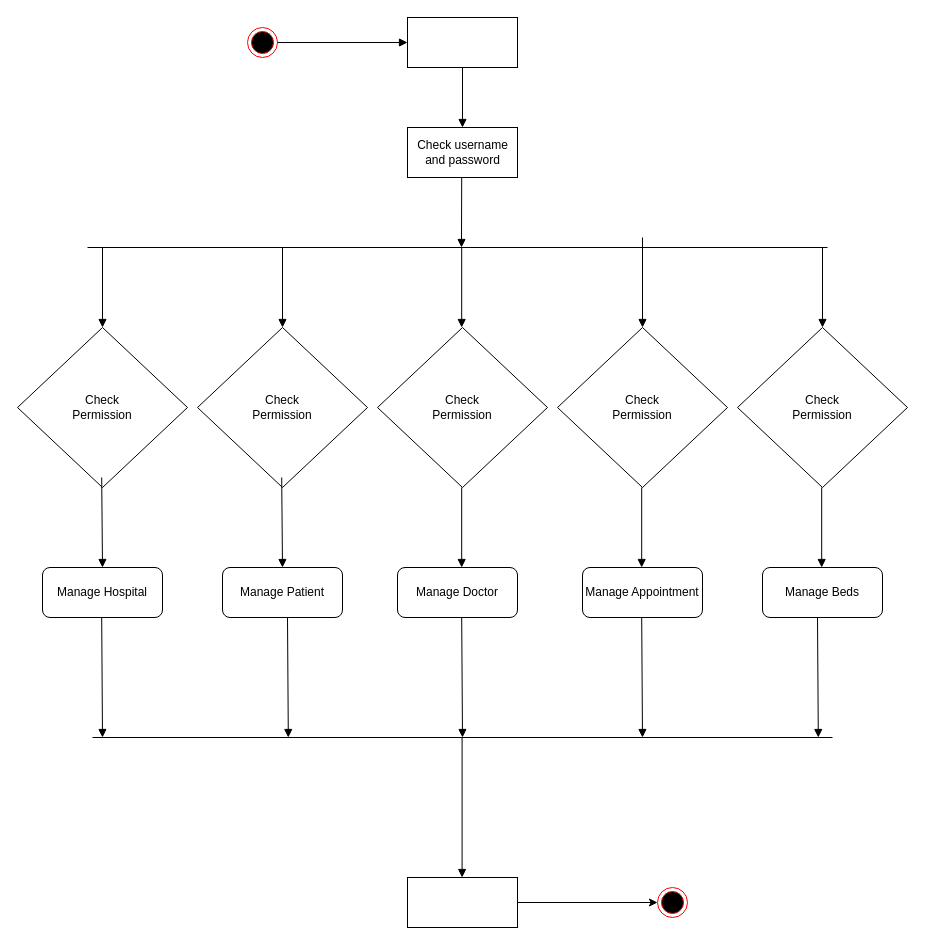
The diagram is 925 pixels wide and 945 high, and some of its shapes have lost their labels. The shapes that lost their labels are listed below. From the top down, each one's centre as x and y in pixels, then its label:
the point at 462,42: Login
the point at 462,902: Logout
